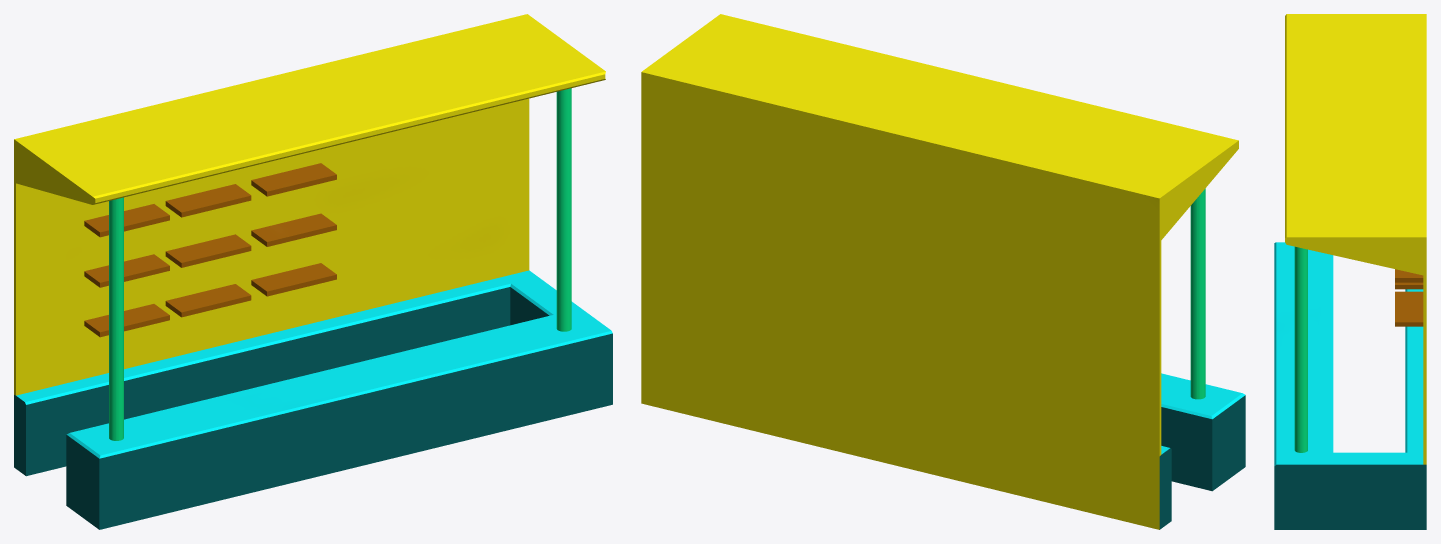
File: Lojinha 1.fbx
3 renders of one model, left to right at view 1: azimuth 30°, elevation 25°; view 2: azimuth 150°, elevation 25°; view 3: azimuth 270°, elevation 25°, orthographic. The views are drawn at different scales.
Parts seen in each view (by area): view 1: Cube; view 2: Cube; view 3: Cube.
Boxes of the visible parts, x1=… form: Cube: x1=14, y1=14, x2=612, y2=529; Cube: x1=641, y1=14, x2=1245, y2=529; Cube: x1=1274, y1=14, x2=1426, y2=529.
Bounding box in the file's own units: 1467 × 896 × 422.
Materials: 1 (1 with a texture image).
